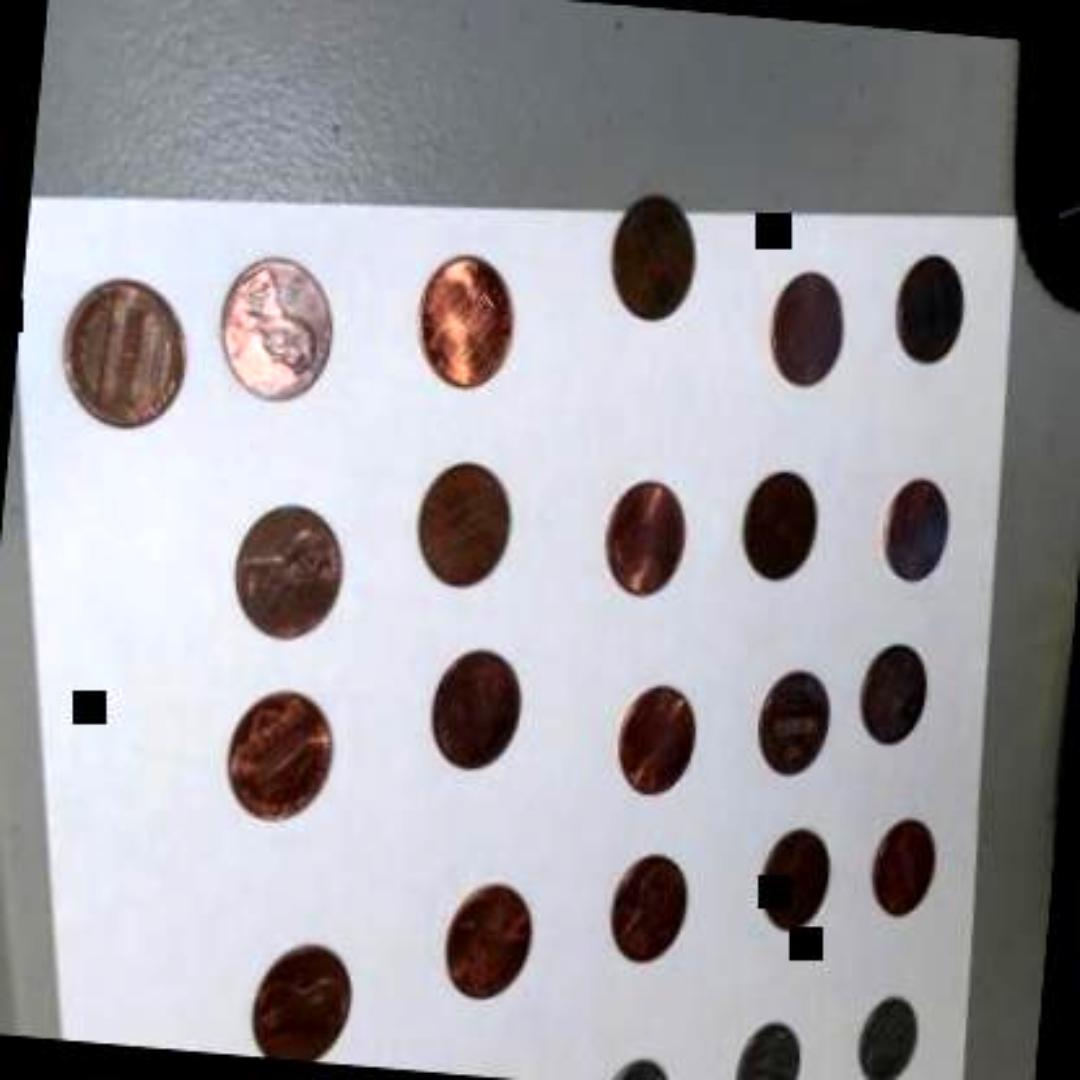Dime: (857, 994, 924, 1080), (737, 1022, 807, 1080)
Penny: (56, 268, 198, 436), (219, 244, 346, 406), (409, 248, 525, 398), (232, 498, 350, 642), (223, 683, 342, 825), (415, 447, 529, 589), (604, 188, 708, 335), (250, 930, 360, 1066), (594, 472, 696, 609), (428, 645, 530, 782), (760, 252, 852, 398), (439, 872, 537, 1008), (739, 457, 829, 589), (612, 672, 702, 800), (872, 466, 956, 594), (609, 846, 697, 968), (850, 634, 934, 758), (886, 255, 972, 374), (863, 816, 940, 924), (758, 826, 835, 934), (756, 664, 832, 766)
